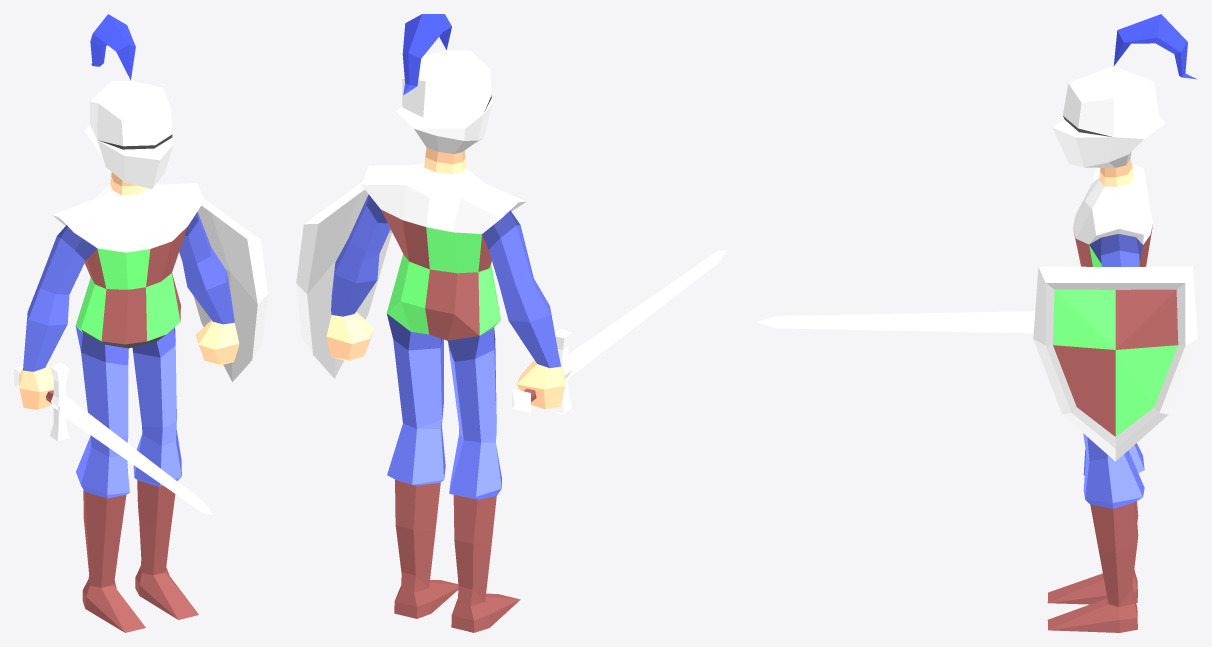
File: lance.glb
The picture shows the model from 3 angles, left to right: view 1: azimuth 30°, elevation 25°; view 2: azimuth 150°, elevation 25°; view 3: azimuth 270°, elevation 25°; orthographic projection. The views are drawn at different scales.
Visible parts, largest first — view 1: Knight, Shield, Sword; view 2: Knight, Shield, Sword; view 3: Knight, Shield, Sword.
Boxes of the visible parts, x1,y1,x2,y2 form: Knight: [19, 14, 239, 632]; Shield: [193, 198, 267, 381]; Sword: [14, 363, 212, 514]; Knight: [326, 14, 565, 632]; Shield: [296, 181, 392, 378]; Sword: [512, 250, 727, 414]; Knight: [1047, 14, 1196, 632]; Shield: [1033, 266, 1197, 461]; Sword: [756, 311, 1035, 333].
Bounding box in the file's own units: 589 × 1420 × 951.
